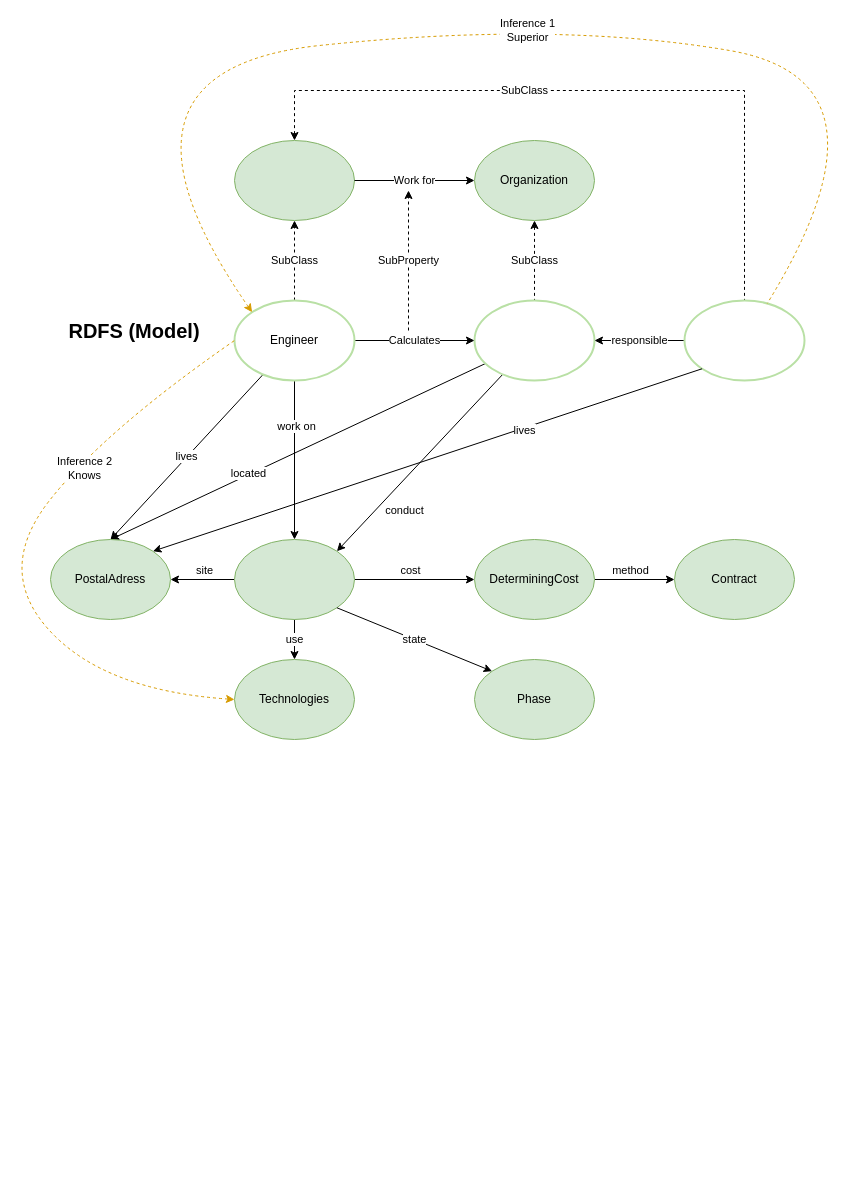
Some shapes in this 846 by 1186 pixel diagram are drawn without their labels. Each missing label, with the centre of its shape:
"Department" belongs at [534,340].
"Personne" belongs at [294,180].
"Project" belongs at [294,579].
"Project manager" belongs at [744,340].
